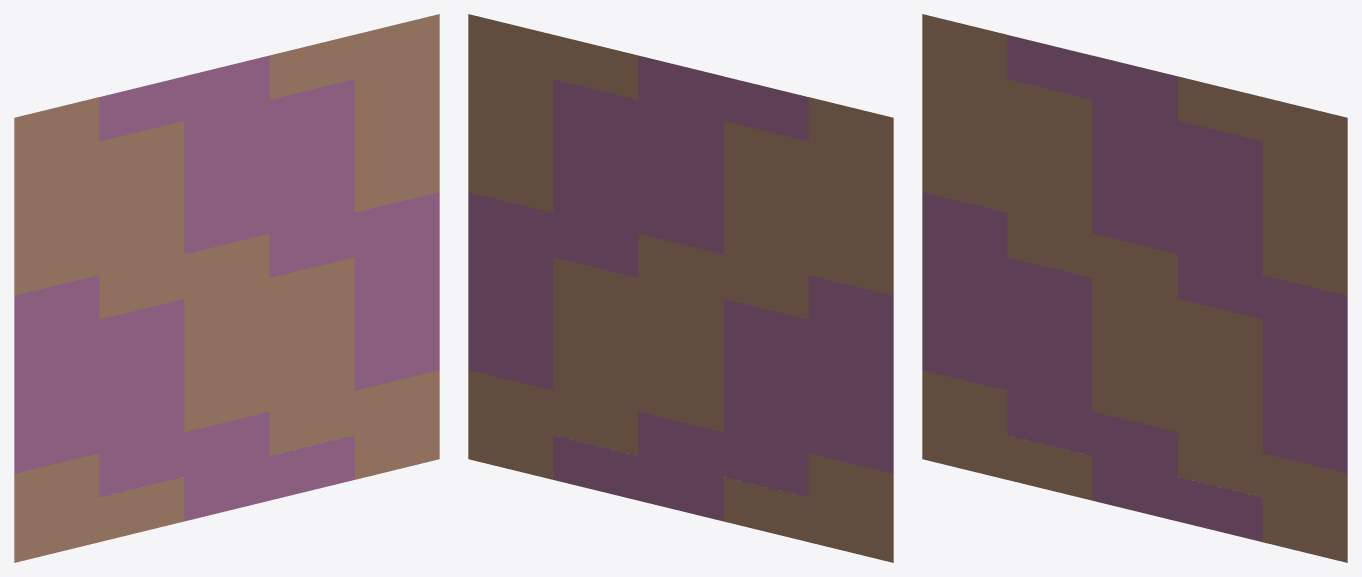
File: file_digged_tilted.fbx
3 renders of one model, left to right at view 1: azimuth 30°, elevation 25°; view 2: azimuth 150°, elevation 25°; view 3: azimuth 330°, elevation 25°, orthographic.
Visible parts, largest first — view 1: file_digged_tilted1; view 2: file_digged_tilted1; view 3: file_digged_tilted1.
Part boxes in pixels (bbox=[...]): file_digged_tilted1: bbox=[14, 14, 439, 562]; file_digged_tilted1: bbox=[468, 14, 893, 562]; file_digged_tilted1: bbox=[922, 14, 1347, 562].
Bounding box in the file's own units: 60 × 60 × 0.
